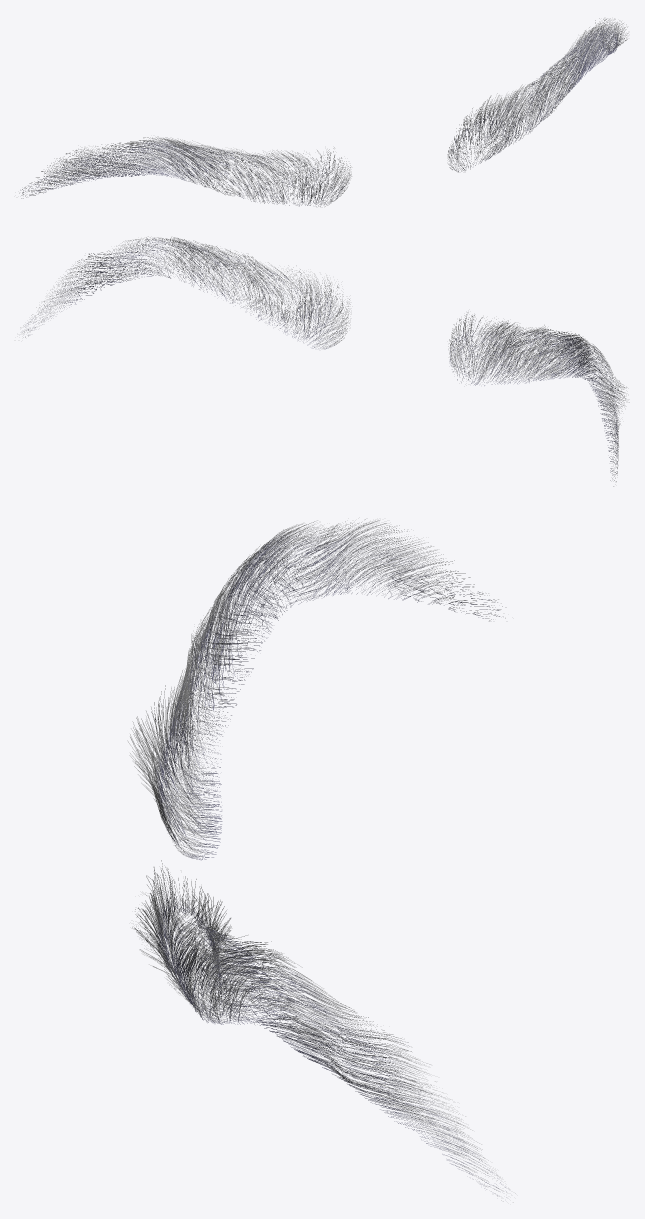
Rendered from eyebrows.glb.
The picture shows the model from 3 angles, top to bottom: view 1: azimuth 30°, elevation 25°; view 2: azimuth 150°, elevation 25°; view 3: azimuth 270°, elevation 25°; orthographic projection. The views are drawn at different scales.
Visible parts, largest first — view 1: Object_2, Object_4, Object_3; view 2: Object_4, Object_2, Object_3; view 3: Object_2, Object_4, Object_3.
Part boxes in pixels (x1=…): Object_2: x1=21, y1=19, x2=628, y2=206; Object_4: x1=19, y1=18, x2=611, y2=206; Object_3: x1=20, y1=18, x2=611, y2=205; Object_4: x1=24, y1=238, x2=618, y2=480; Object_2: x1=20, y1=236, x2=629, y2=481; Object_3: x1=28, y1=237, x2=617, y2=474; Object_2: x1=127, y1=519, x2=513, y2=1202; Object_4: x1=149, y1=522, x2=515, y2=1193; Object_3: x1=153, y1=522, x2=506, y2=1191.
Bounding box in the file's own units: 1.23 × 0.1822 × 0.3471.
